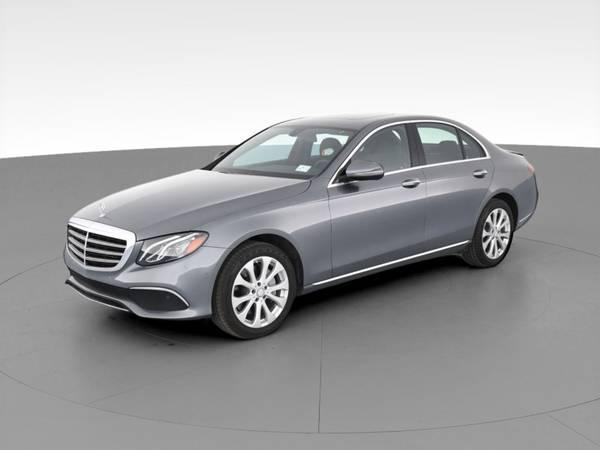Front_Bumper: (62, 248, 232, 322)
Front_Fender: (192, 177, 332, 289)
Front_Left_Door: (326, 167, 424, 276)
Front_Left_Window: (328, 123, 420, 186)
Front_Windshield: (203, 122, 362, 175)
Grille: (65, 219, 140, 273)
Hood: (72, 169, 312, 236)
Left_Headlight: (135, 232, 209, 265)
Rear_Fender: (488, 152, 538, 225)
Rear_Left_Door: (422, 158, 492, 254)
Rear_Left_Window: (413, 121, 492, 165)
Roof: (279, 111, 525, 184)
Wheel: (215, 241, 301, 336), (474, 200, 517, 264)
